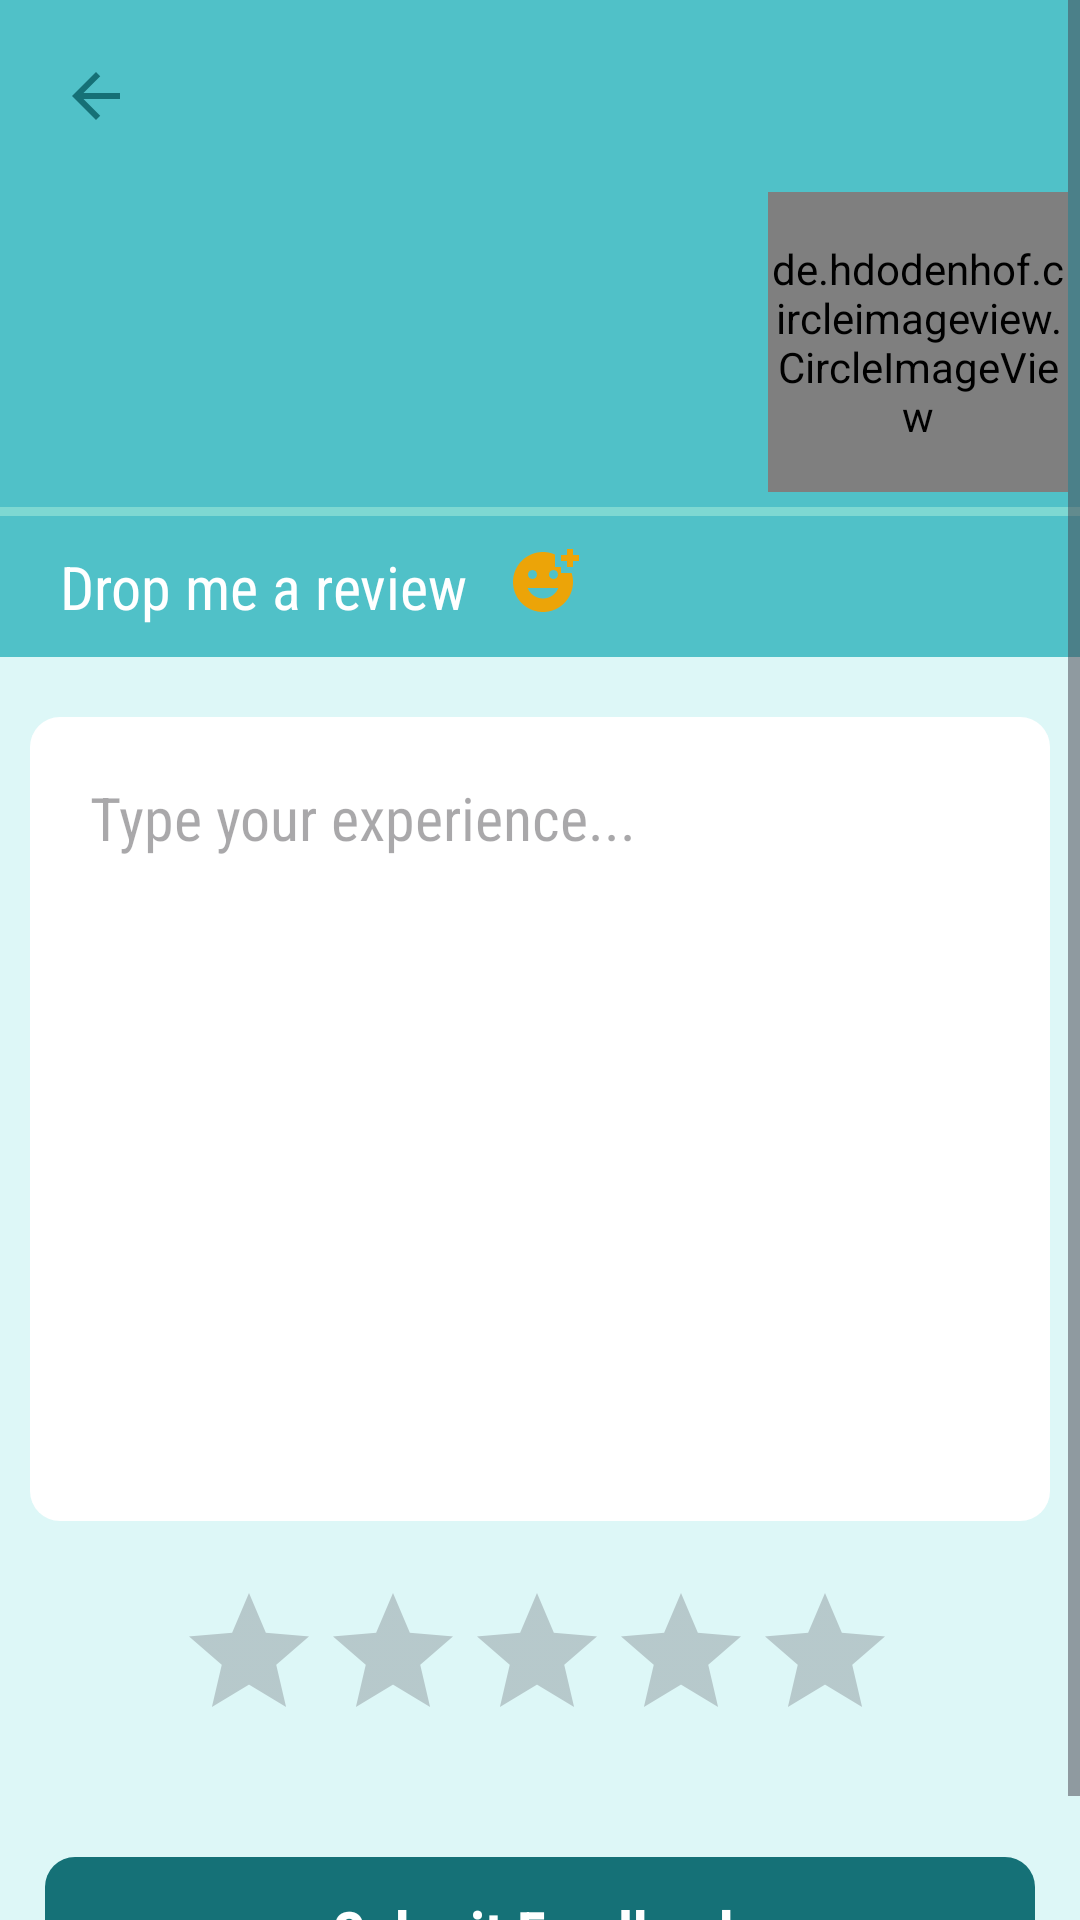

Icon bounding boxes for this 1080 x 1920 phone screenshot, format (x1, y1, x2, y2):
add reaction: (513, 549, 579, 612)
arrow back: (72, 72, 120, 120)
